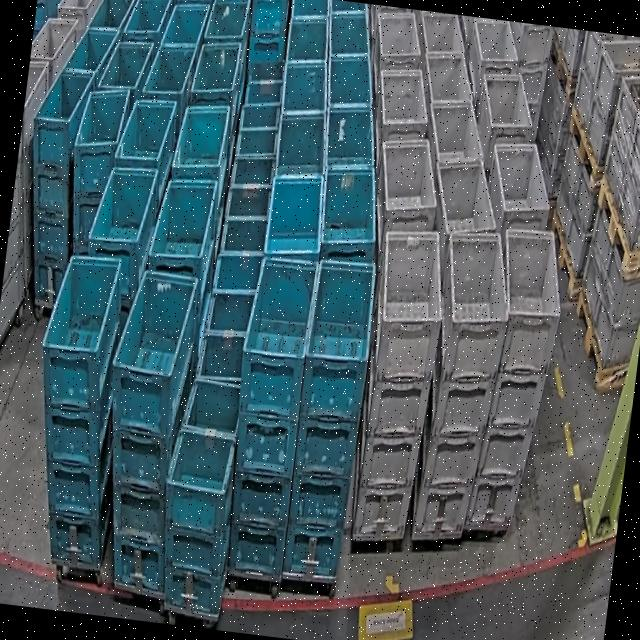4G: (407, 223, 519, 544), (462, 223, 571, 535), (347, 223, 452, 544)
B4: (14, 249, 142, 567), (84, 265, 206, 596), (213, 253, 321, 580), (276, 255, 380, 580), (12, 64, 97, 310), (59, 81, 133, 258)
B8: (148, 375, 250, 618)
